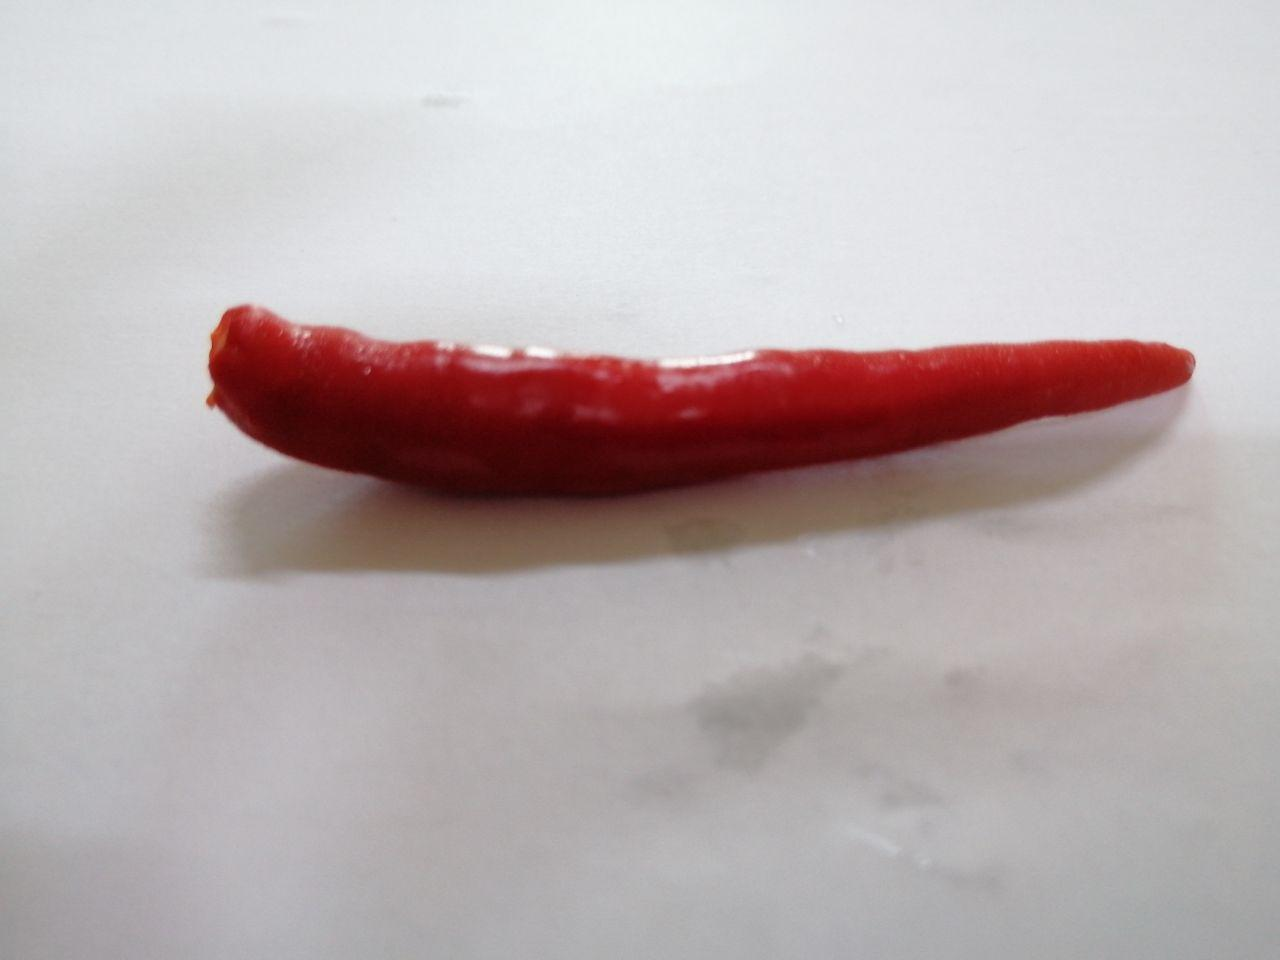lada merah: (150, 272, 1249, 533)
